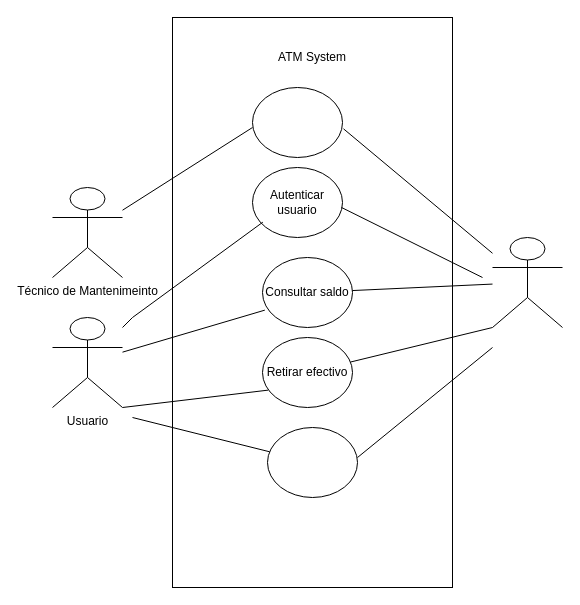
Some shapes in this 580 by 605 pixel diagram are drawn without their labels. The shapes that lost their labels are listed below. From the top down, each one's centre as x and y in pixels, then its label:
At point (297, 122): "Recargar efectivo".
At point (527, 282): "Bank System".
At point (312, 462): "Depositar dinero".
